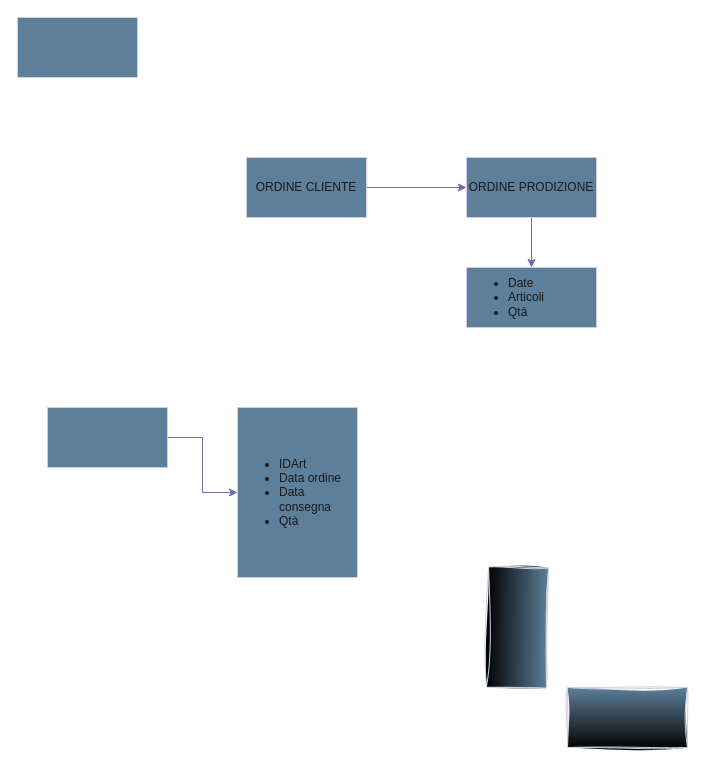
This 705x765 diagram has some shape labels left out. Here are the shapes that lost their labels. From the top down, the centre of each, then its label:
At point 77,47: "MAGAZZINO".
At point 107,437: "ORDINE".
